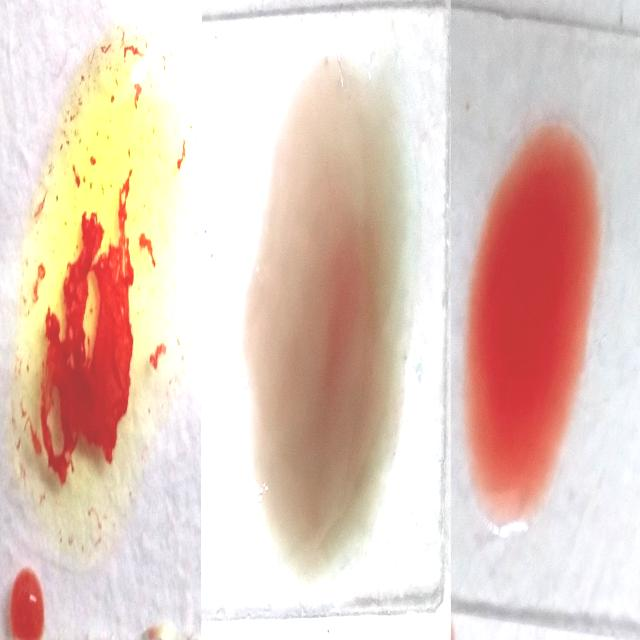B: (23, 19, 184, 552)
